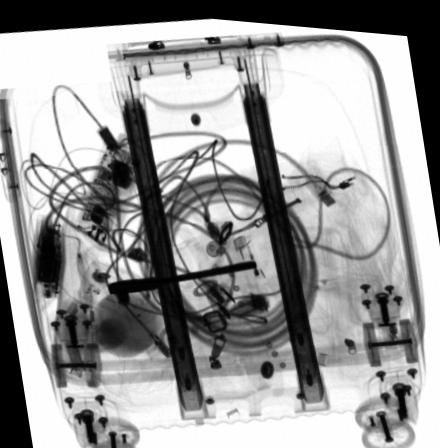Wrench: (106, 255, 256, 292)
